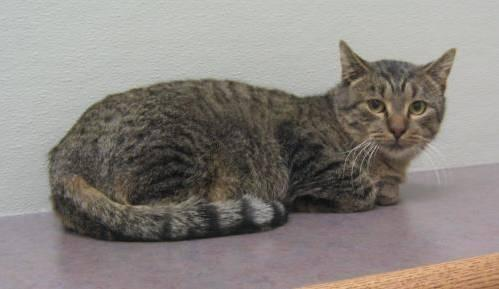cat: (49, 41, 457, 242)
